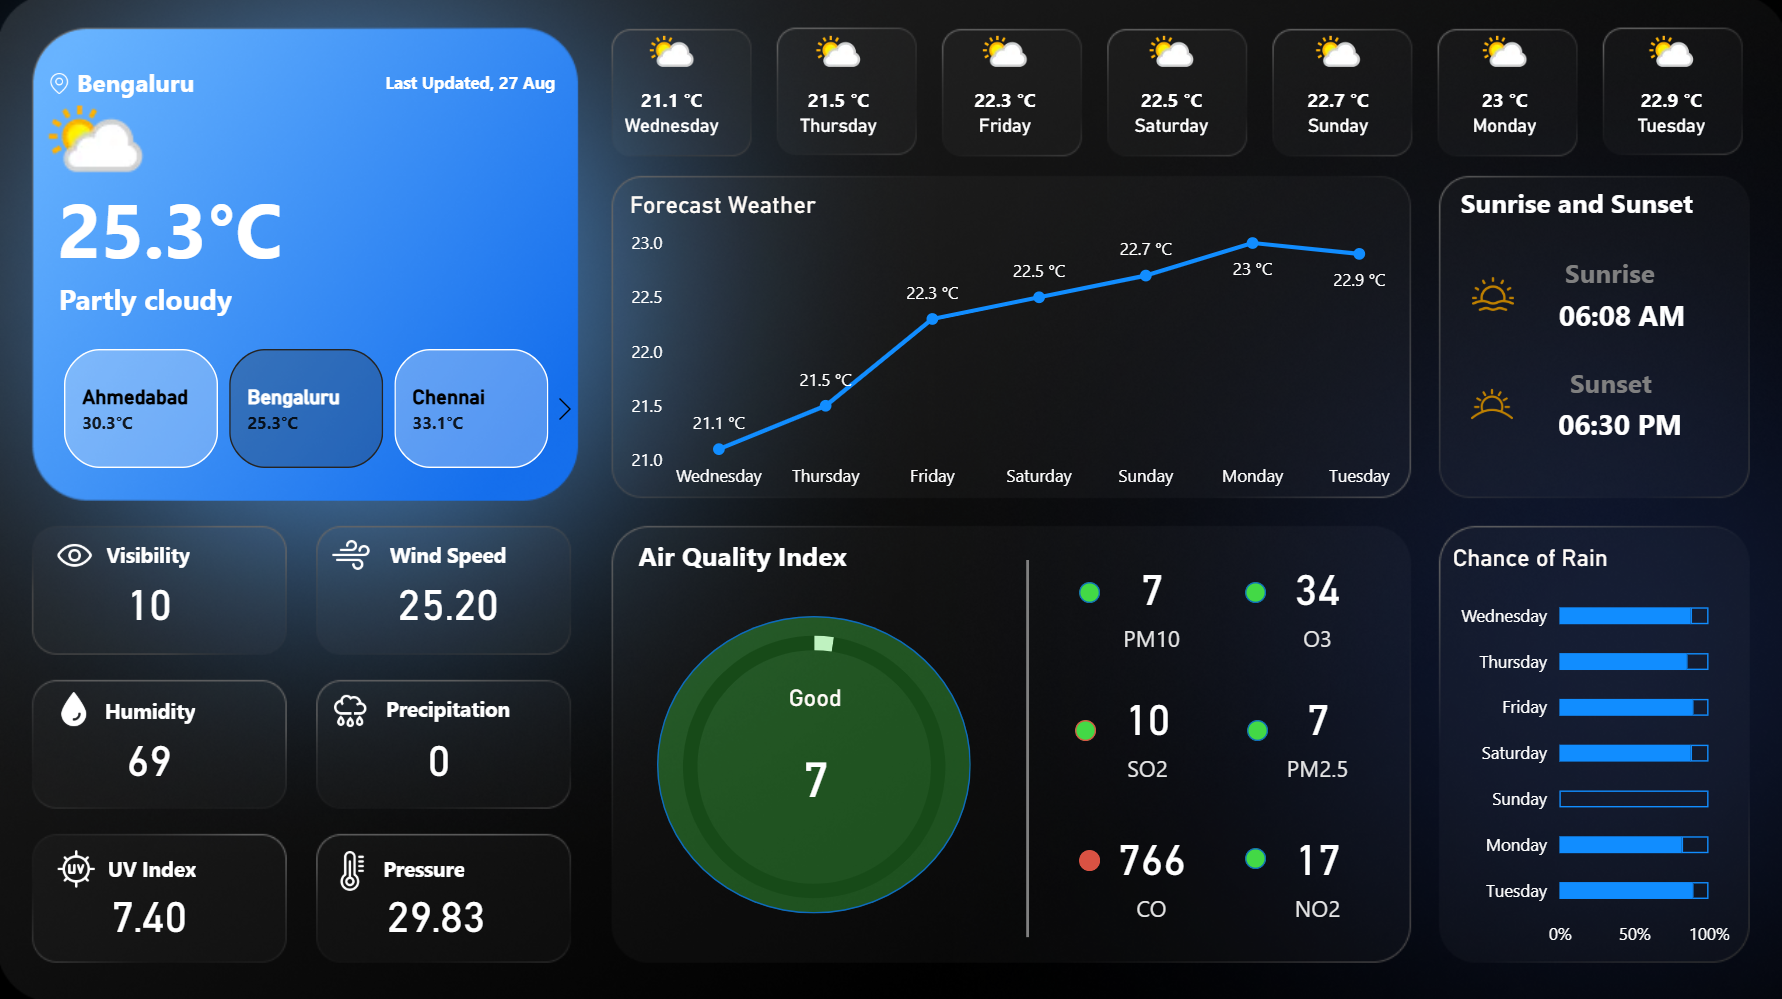

The dashboard page shown, as its layout file describes it:
{"tool":"powerbi","page":{"name":"Page 1","canvas":[1280,720],"ordinal":0},"visuals":[{"type":"donutChart","fields":{"Y":["Sum(Current.current.air_quality.pm10)","Measure.Left_value_PM10"]},"box":[455.1,426.7,256,244.3],"z":0},{"type":"shape","box":[471.8,441.7,224.2,212.5],"z":1000},{"type":"card","fields":{"Values":["Sum(Current.current.air_quality.pm10)"]},"box":[513.7,490.2,140.5,112.1],"z":2000},{"type":"advancedSlicerVisual","fields":{"Values":["Locations.location.name"]},"box":[22.4,245.9,398.7,95],"z":3000},{"type":"shape","box":[17.1,114.3,212.9,98.6],"z":4000},{"type":"shape","box":[44.3,195.7,354.3,37.1],"z":5000},{"type":"shape","box":[56.9,41.8,138.9,36.8],"z":6000},{"type":"shape","box":[245,41,153,37],"z":7000},{"type":"image","box":[31,48,26,25],"z":8000},{"type":"cardVisual","fields":{"Data":["Min(Current.current.condition.icon)"]},"box":[10,48.5,117.1,92],"z":9000},{"type":"image","box":[31.7,378.2,48.4,39.1],"z":10000},{"type":"shape","box":[55.7,378.6,104.3,37.1],"z":11000},{"type":"shape","box":[57.1,490,104.3,37.1],"z":12000},{"type":"image","box":[32.9,490,44,36],"z":13000},{"type":"image","box":[32.9,602.9,47.1,38.6],"z":14000},{"type":"shape","box":[58.6,602.9,104.3,37.1],"z":15000},{"type":"image","box":[228.6,490,47.1,38.6],"z":16000},{"type":"shape","box":[270,488.6,104.3,37.1],"z":17000},{"type":"image","box":[228.6,378.6,48.6,38.6],"z":18000},{"type":"shape","box":[270,378.6,104.3,37.1],"z":19000},{"type":"image","box":[230,604.3,47.1,38.6],"z":20000},{"type":"shape","box":[252.9,602.9,104.3,37.1],"z":21000},{"type":"card","fields":{"Values":["Sum(Current.current.vis_km)"]},"box":[68.6,398.6,80,65.7],"z":22000},{"type":"card","fields":{"Values":["Sum(Current.current.pressure_in)"]},"box":[270,621.4,87.1,65.7],"z":23000},{"type":"card","fields":{"Values":["Sum(Current.current.uv)"]},"box":[68.6,621.4,80,65.7],"z":24000},{"type":"card","fields":{"Values":["Sum(Current.current.precip_in)"]},"box":[275.7,510,80,65.7],"z":25000},{"type":"card","fields":{"Values":["Sum(Current.current.humidity)"]},"box":[68.6,510,80,65.7],"z":26000},{"type":"card","fields":{"Values":["Sum(Current.current.wind_kph)"]},"box":[270,398.6,104.3,65.7],"z":27000},{"type":"advancedSlicerVisual","fields":{"Values":["Forecast_Day.Day_Name"]},"box":[421.6,15.3,835.5,91.7],"z":28000},{"type":"lineChart","title":"Forecast Weather","fields":{"Y":["Sum(Forecast_Day.forecast.forecastday.day.avgtemp_c)"],"Category":["Forecast_Day.Day_Name"]},"box":[447.1,132.9,561.4,227.1],"z":29000},{"type":"shape","box":[1042.9,127.1,171.4,37.1],"z":30000},{"type":"shape","box":[1097.1,210,127.1,32.9],"z":31000},{"type":"shape","box":[1095.7,274.3,127.1,58.6],"z":32000},{"type":"shape","box":[1110,180,84.3,31.4],"z":33000},{"type":"shape","box":[1105.7,260,94.3,28.6],"z":34000},{"type":"image","box":[1042.9,260,50,60],"z":35000},{"type":"image","box":[1048.6,181.4,40,60],"z":36000},{"type":"hundredPercentStackedBarChart","title":"Chance of Rain","fields":{"Y":["Sum(Forecast_Day.forecast.forecastday.day.daily_chance_of_rain)","Current.Left_value_Rain"],"Category":["Forecast_Day.Day_Name"]},"box":[1020.7,386.5,217.5,299.5],"z":37000},{"type":"shape","box":[447.2,380.2,170.9,36.9],"z":38000},{"type":"card","fields":{"Values":["Sum(Current.current.air_quality.pm10)"]},"box":[773,389.9,103.7,83.7],"z":39000},{"type":"card","fields":{"Values":["Sum(Current.current.air_quality.o3)"]},"box":[891.8,389.9,103.7,83.7],"z":40000},{"type":"card","fields":{"Values":["Sum(Current.current.air_quality.so2)"]},"box":[770.5,483.6,103.7,83.7],"z":41000},{"type":"card","fields":{"Values":["Sum(Current.current.air_quality.pm2_5)"]},"box":[891.8,483.6,103.7,83.7],"z":42000},{"type":"card","fields":{"Values":["Sum(Current.current.air_quality.co)"]},"box":[773,582.3,103.7,83.7],"z":43000},{"type":"card","fields":{"Values":["Sum(Current.current.air_quality.no2)"]},"box":[891.8,582.3,103.7,83.7],"z":44000},{"type":"shape","box":[773,416.6,15.1,15.1],"z":45000},{"type":"shape","box":[773,609,15.1,15.1],"z":46000},{"type":"shape","box":[770.5,515.3,15.1,15.1],"z":47000},{"type":"shape","box":[891.8,416.6,15.1,15.1],"z":48000},{"type":"shape","box":[893.5,515.3,15.1,15.1],"z":49000},{"type":"shape","box":[891.8,607.4,15.1,15.1],"z":50000},{"type":"shape","box":[684.3,401.6,103.7,269.4],"z":51000}]}

Visuals, with their boxes in screenshot pixels (x1, y1, x2, y2), scaled from the page's 1280x720 canvas onto the 1782x999 screenshot:
donutChart - Sum(Current.current.air_quality.pm10) x Measure.Left_value_PM10: crop(634, 592, 990, 931)
shape: crop(657, 613, 969, 908)
card - Sum(Current.current.air_quality.pm10): crop(715, 680, 911, 836)
advancedSlicerVisual - Locations.location.name: crop(31, 341, 586, 473)
shape: crop(24, 159, 320, 295)
shape: crop(62, 272, 555, 323)
shape: crop(79, 58, 273, 109)
shape: crop(341, 57, 554, 108)
image: crop(43, 67, 79, 101)
cardVisual - Min(Current.current.condition.icon): crop(14, 67, 177, 195)
image: crop(44, 525, 112, 579)
shape: crop(78, 525, 223, 577)
shape: crop(79, 680, 225, 731)
image: crop(46, 680, 107, 730)
image: crop(46, 837, 111, 890)
shape: crop(82, 837, 227, 888)
image: crop(318, 680, 384, 733)
shape: crop(376, 678, 521, 729)
image: crop(318, 525, 386, 579)
shape: crop(376, 525, 521, 577)
image: crop(320, 838, 386, 892)
shape: crop(352, 837, 497, 888)
card - Sum(Current.current.vis_km): crop(96, 553, 207, 644)
card - Sum(Current.current.pressure_in): crop(376, 862, 497, 953)
card - Sum(Current.current.uv): crop(96, 862, 207, 953)
card - Sum(Current.current.precip_in): crop(384, 708, 495, 799)
card - Sum(Current.current.humidity): crop(96, 708, 207, 799)
card - Sum(Current.current.wind_kph): crop(376, 553, 521, 644)
advancedSlicerVisual - Forecast_Day.Day_Name: crop(587, 21, 1750, 148)
"Forecast Weather" lineChart: crop(622, 184, 1404, 500)
shape: crop(1452, 176, 1691, 228)
shape: crop(1527, 291, 1704, 337)
shape: crop(1525, 381, 1702, 462)
shape: crop(1545, 250, 1663, 293)
shape: crop(1539, 361, 1671, 400)
image: crop(1452, 361, 1522, 444)
image: crop(1460, 252, 1516, 335)
"Chance of Rain" hundredPercentStackedBarChart: crop(1421, 536, 1724, 952)
shape: crop(623, 528, 861, 579)
card - Sum(Current.current.air_quality.pm10): crop(1076, 541, 1221, 657)
card - Sum(Current.current.air_quality.o3): crop(1242, 541, 1386, 657)
card - Sum(Current.current.air_quality.so2): crop(1073, 671, 1217, 787)
card - Sum(Current.current.air_quality.pm2_5): crop(1242, 671, 1386, 787)
card - Sum(Current.current.air_quality.co): crop(1076, 808, 1221, 924)
card - Sum(Current.current.air_quality.no2): crop(1242, 808, 1386, 924)
shape: crop(1076, 578, 1097, 599)
shape: crop(1076, 845, 1097, 866)
shape: crop(1073, 715, 1094, 736)
shape: crop(1242, 578, 1263, 599)
shape: crop(1244, 715, 1265, 736)
shape: crop(1242, 843, 1263, 864)
shape: crop(953, 557, 1097, 931)
